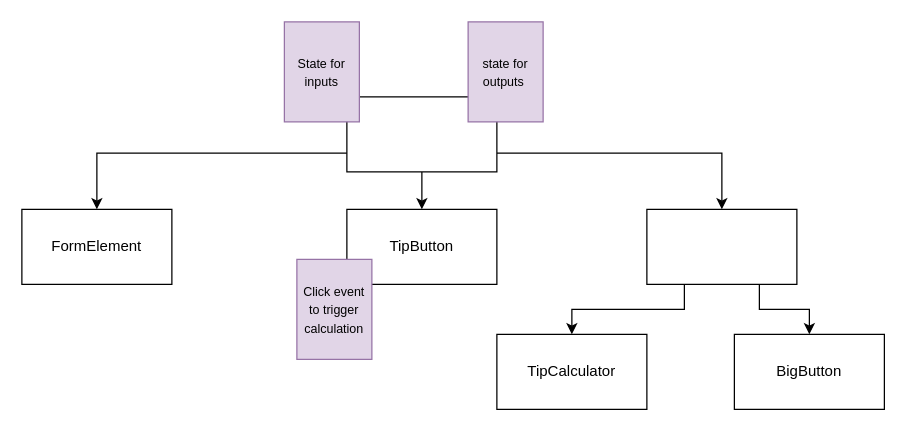
Image size: 906x431. Some labels were removed from this diagram. Each missing label, with the centre of its shape:
app: point (421, 134)
TipCalculatorSection: point (721, 246)
